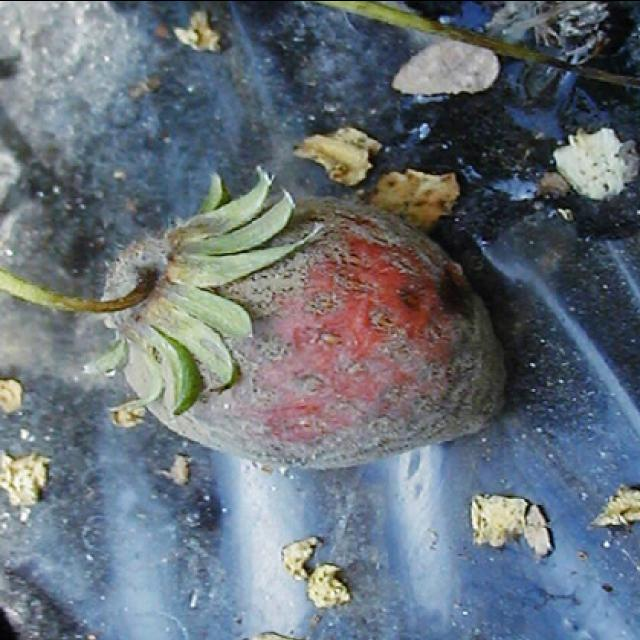Gray Mold: (98, 167, 506, 469)
